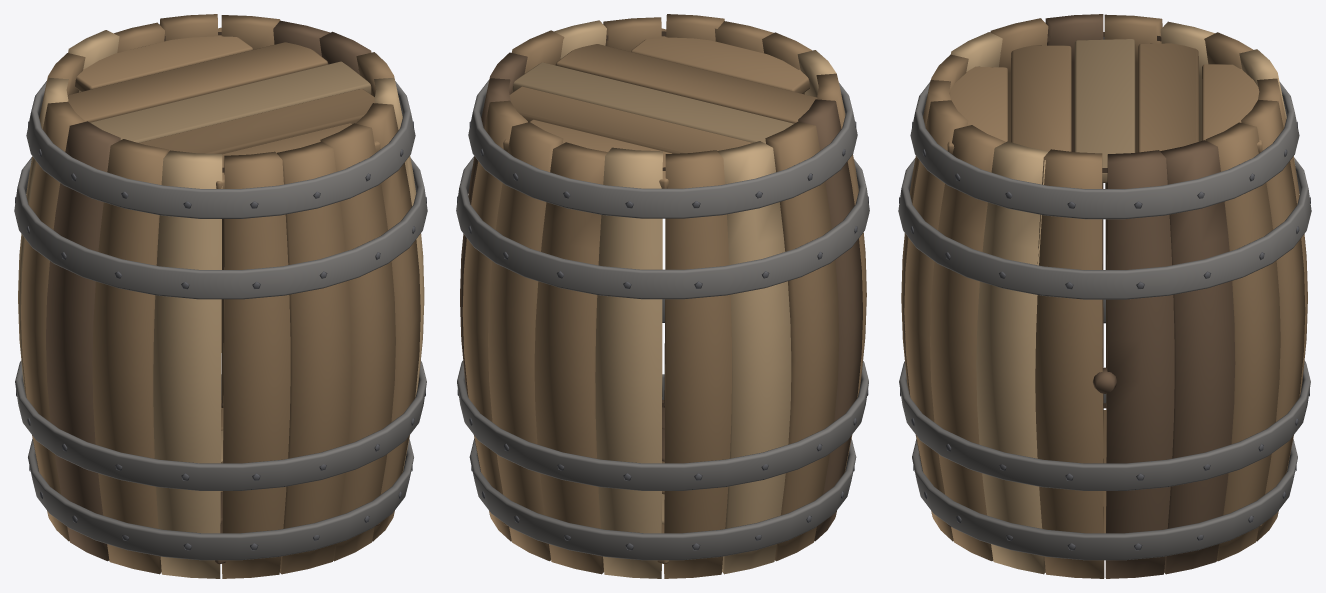
File: barrel.glb
The picture shows the model from 3 angles, left to right: view 1: azimuth 30°, elevation 25°; view 2: azimuth 150°, elevation 25°; view 3: azimuth 270°, elevation 25°; orthographic projection.
Visible parts, largest first — view 1: barrel; view 2: barrel; view 3: barrel.
Part boxes in pixels (box(x1,y1,x2,y2)): barrel: box(14, 14, 427, 578); barrel: box(456, 14, 869, 578); barrel: box(898, 14, 1311, 578).
Size of the model in its own units: 0.9064 by 1 by 0.8981.
